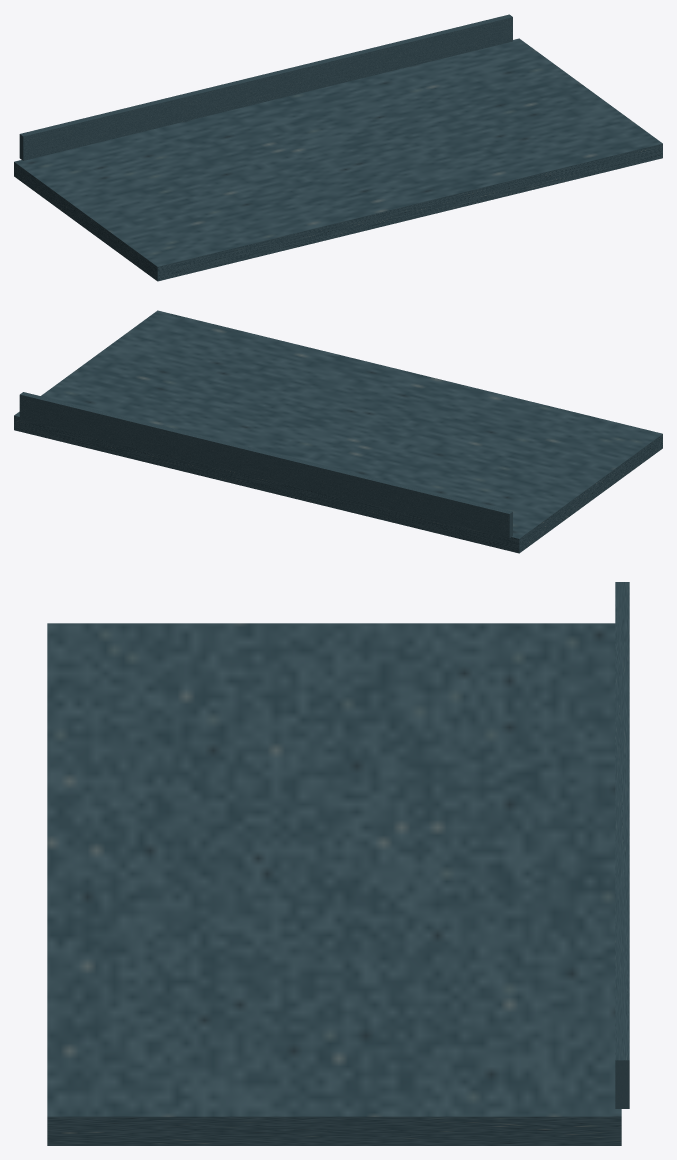
File: unified-light-lab-bench.glb
3 renders of one model, top to bottom at view 1: azimuth 30°, elevation 25°; view 2: azimuth 150°, elevation 25°; view 3: azimuth 270°, elevation 25°, orthographic. The views are drawn at different scales.
Parts seen in each view (by area): view 1: Unified_Light_LabBench_Surface, Unified_Light_LabBench_Backstop; view 2: Unified_Light_LabBench_Surface, Unified_Light_LabBench_Backstop; view 3: Unified_Light_LabBench_Surface, Unified_Light_LabBench_Backstop.
Boxes of the visible parts, x1,y1,x2,y2 form: Unified_Light_LabBench_Surface: (14,38,662,281); Unified_Light_LabBench_Backstop: (19,14,512,160); Unified_Light_LabBench_Surface: (14,310,662,553); Unified_Light_LabBench_Backstop: (19,392,512,538); Unified_Light_LabBench_Surface: (47,623,621,1145); Unified_Light_LabBench_Backstop: (615,582,629,1108).
Bounding box in the file's own units: 6.5 × 0.48 × 3.25.
Materials: 1 (1 with a texture image).
